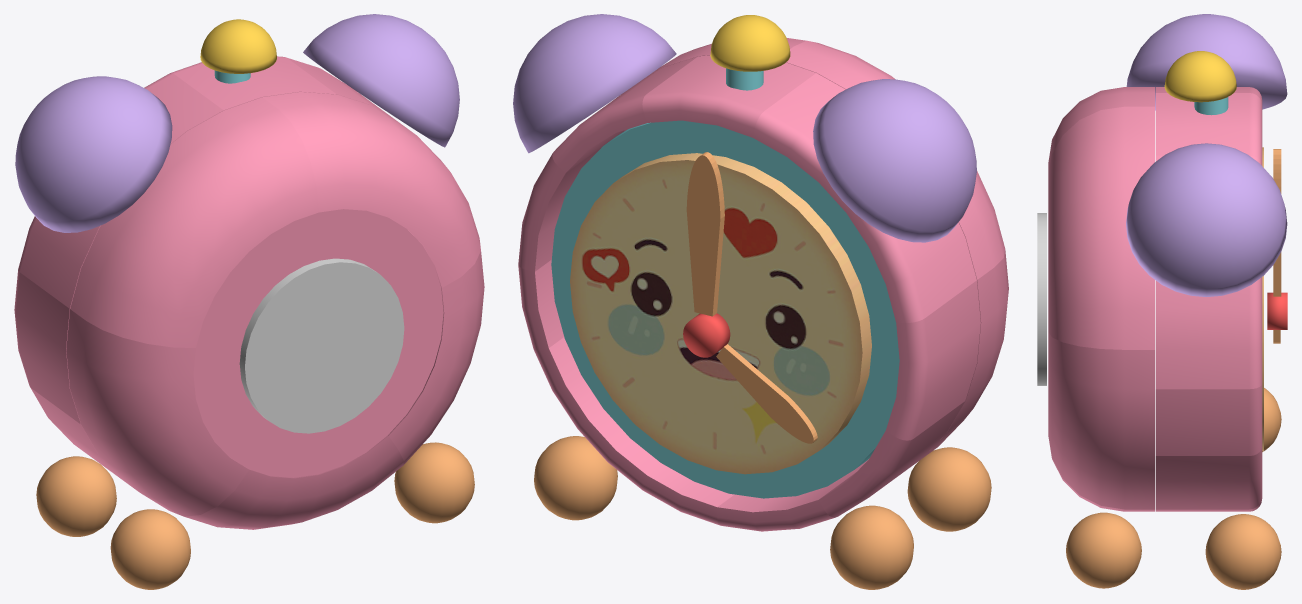
The model's file is level_19.fbx.
3 renders of one model, left to right at view 1: azimuth 30°, elevation 25°; view 2: azimuth 150°, elevation 25°; view 3: azimuth 270°, elevation 25°, orthographic. The views are drawn at different scales.
Visible parts, largest first — view 1: Cylinder.023, Cylinder.022, Cylinder.010, Cylinder.024, Sphere, Cylinder.027, Sphere.001, Cylinder.025, Cylinder.026, Cylinder.015, Sphere.003, Sphere.004 (+7 smaller); view 2: Cylinder.009, Cylinder.007, Sphere, Sphere.001, Cylinder.015, Cylinder.018, Cylinder.016, Sphere.004, Sphere.003, Sphere.006, Cylinder.023, Cube (+13 smaller); view 3: Cylinder.027, Sphere.001, Cylinder.026, Cylinder.020, Sphere, Cylinder.021, Cylinder.011, Cylinder.018, Sphere.005, Sphere.006, Sphere.002, Cylinder.023 (+6 smaller).
Boxes of the visible parts, bbox=[...] form: Cylinder.023: bbox=[70, 97, 318, 347]; Cylinder.022: bbox=[193, 209, 443, 477]; Cylinder.010: bbox=[239, 258, 404, 433]; Cylinder.024: bbox=[66, 309, 248, 516]; Sphere: bbox=[15, 76, 172, 232]; Cylinder.027: bbox=[262, 92, 480, 287]; Sphere.001: bbox=[303, 14, 459, 147]; Cylinder.025: bbox=[184, 435, 403, 529]; Cylinder.026: bbox=[388, 251, 484, 464]; Cylinder.015: bbox=[14, 270, 80, 424]; Sphere.003: bbox=[110, 509, 190, 589]; Sphere.004: bbox=[36, 456, 116, 536]; Cylinder.009: bbox=[570, 153, 871, 474]; Cylinder.007: bbox=[551, 120, 899, 498]; Sphere: bbox=[813, 79, 976, 242]; Sphere.001: bbox=[513, 14, 676, 153]; Cylinder.015: bbox=[886, 280, 980, 440]; Cylinder.018: bbox=[642, 55, 815, 137]; Cylinder.016: bbox=[846, 209, 976, 322]; Sphere.004: bbox=[830, 505, 913, 589]; Sphere.003: bbox=[907, 447, 991, 531]; Sphere.006: bbox=[534, 436, 617, 520]; Cylinder.023: bbox=[786, 40, 1005, 279]; Cube: bbox=[686, 152, 724, 316]; Cylinder.027: bbox=[1048, 106, 1154, 349]; Sphere.001: bbox=[1126, 143, 1287, 296]; Cylinder.026: bbox=[1048, 332, 1154, 509]; Cylinder.020: bbox=[1155, 277, 1262, 389]; Sphere: bbox=[1126, 14, 1287, 110]; Cylinder.021: bbox=[1155, 384, 1262, 455]; Cylinder.011: bbox=[1155, 447, 1262, 509]; Cylinder.018: bbox=[1155, 93, 1262, 163]; Sphere.005: bbox=[1066, 512, 1141, 588]; Sphere.006: bbox=[1205, 514, 1281, 589]; Sphere.002: bbox=[1164, 51, 1236, 102]; Cylinder.023: bbox=[1048, 87, 1154, 174].
Bounding box in the file's own units: 9.77 × 10.99 × 5.35.
